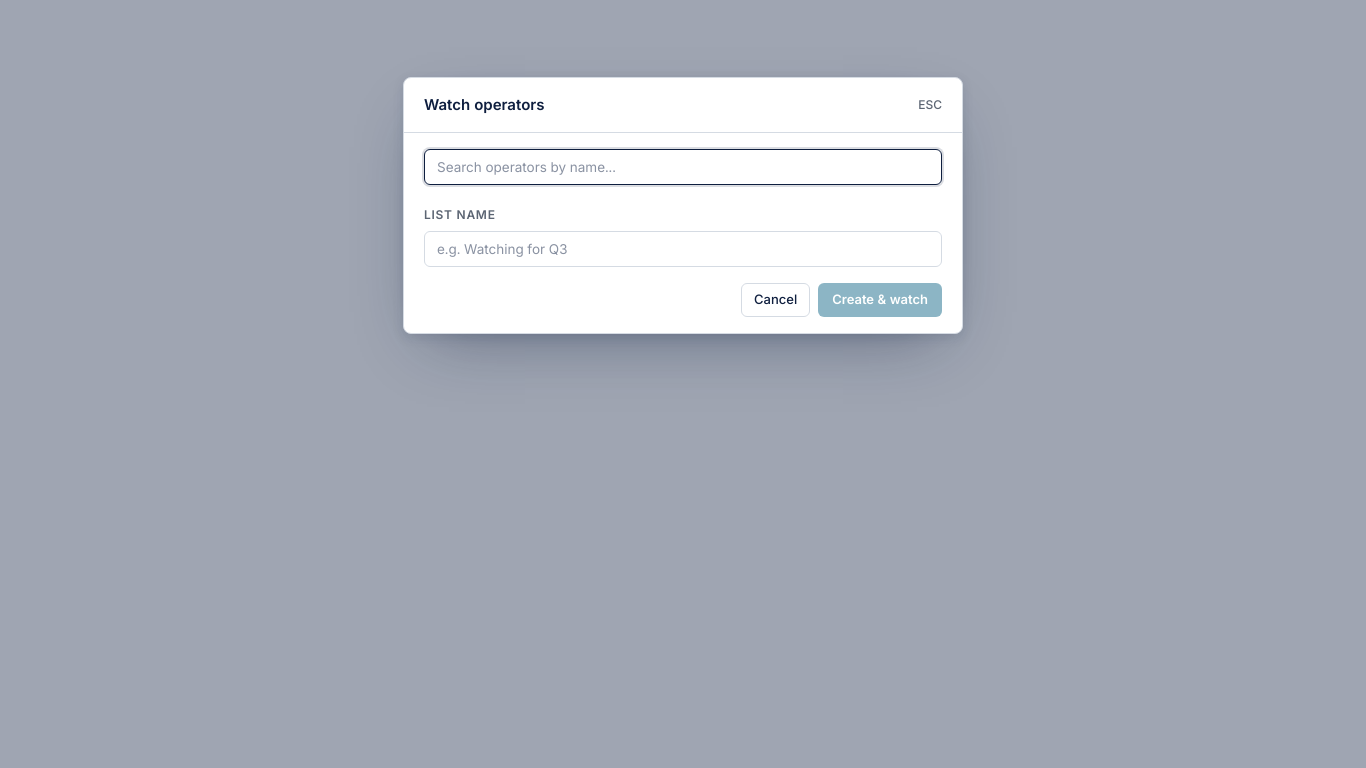
WatchOperatorsModal › typing a query renders the two search results
The width and height of the screenshot is (1366, 768).
In the search field with placeholder "Search operators by name...": x=683, y=167 x1=424 y1=149 x2=942 y2=185, type "acme"
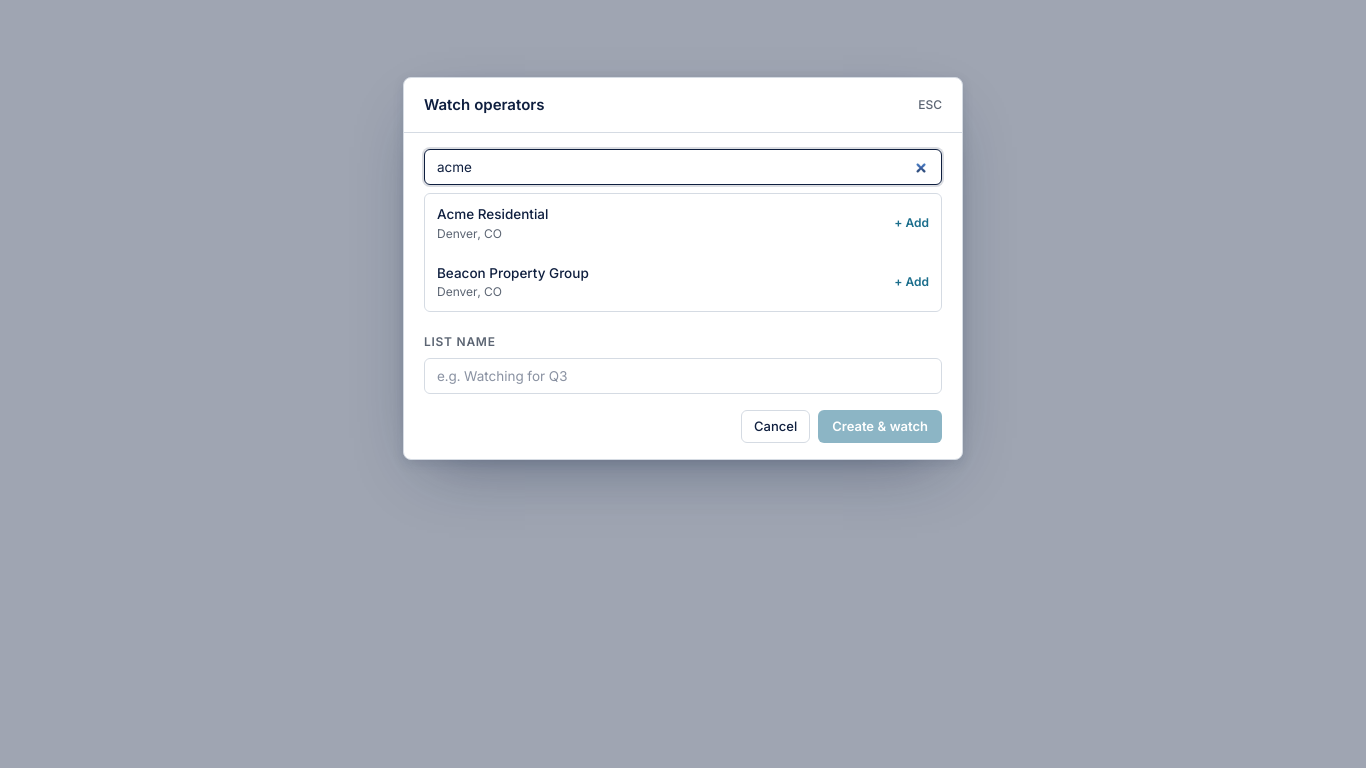
Now the text "Acme Residential" is shown, box x1=437 y1=206 x2=548 y2=222
Now the text "Beacon Property Group" is shown, box x1=437 y1=264 x2=589 y2=280
